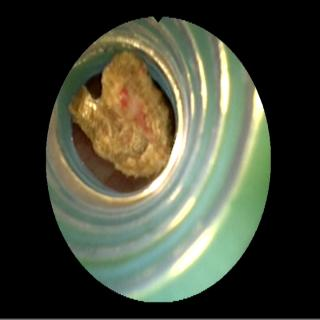stone: (69, 53, 171, 178)
